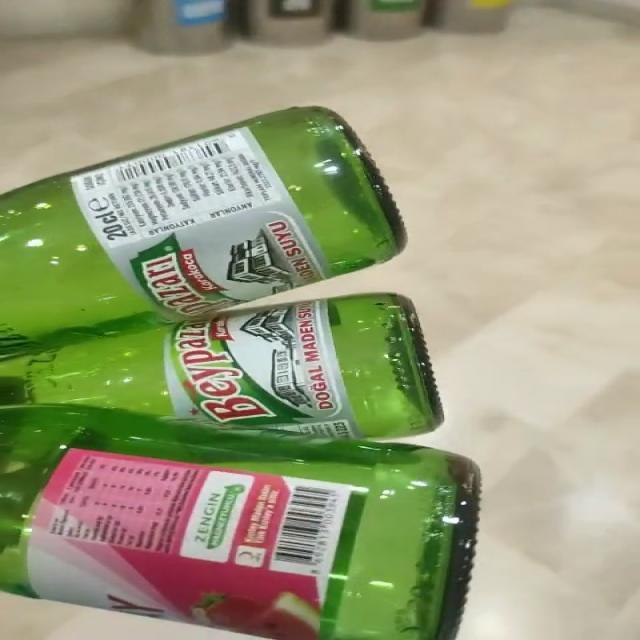Glass: (0, 108, 480, 640)
